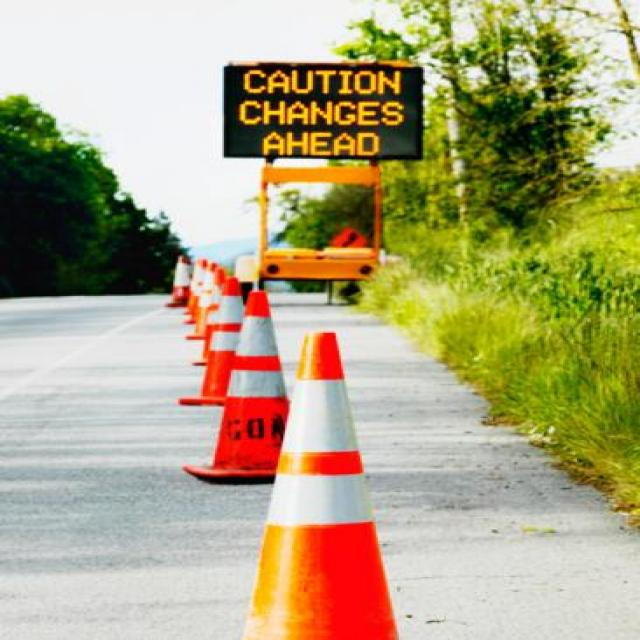Cone: (240, 330, 402, 640), (196, 290, 304, 490), (192, 275, 259, 410), (194, 266, 226, 341)
